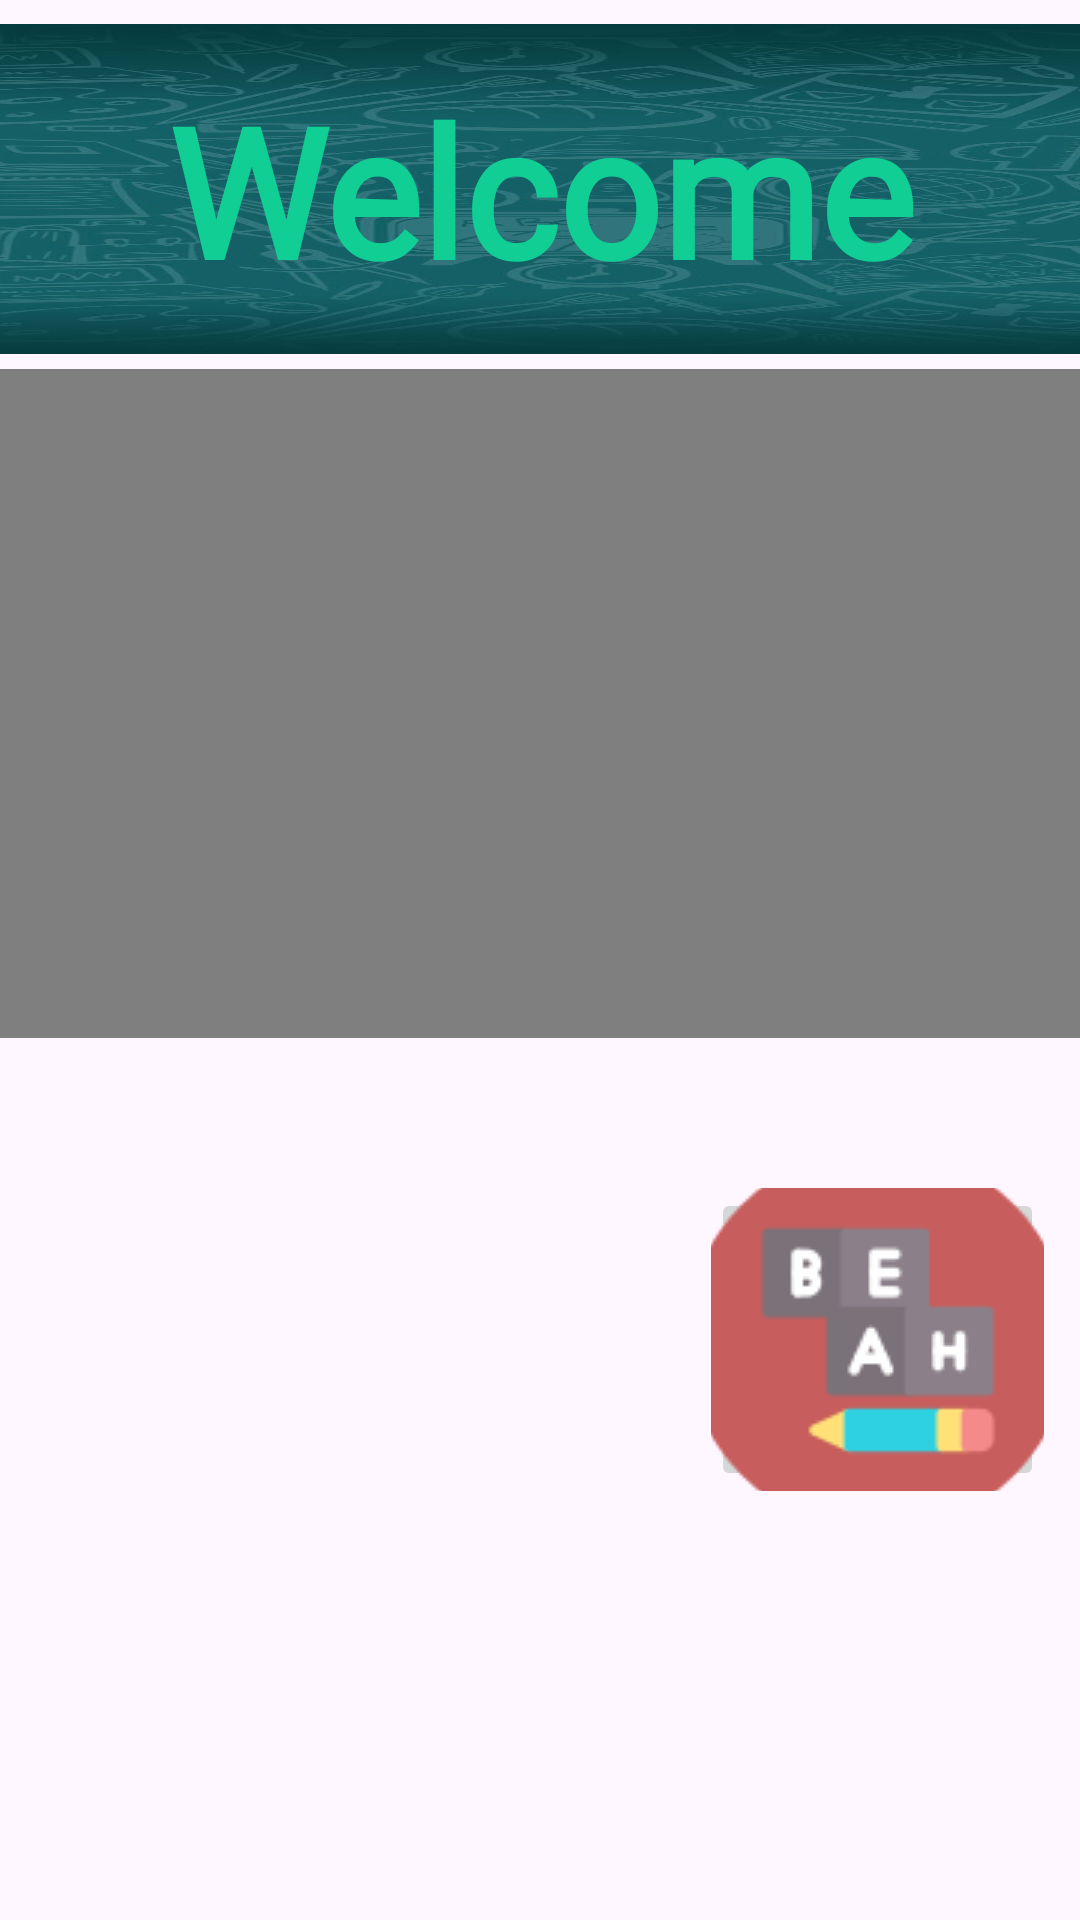

Icon bounding boxes for this 1080×1920 phone screenshot, format Rect(x1, y1, x2, y2):
cours: Rect(711, 1188, 1044, 1491)
